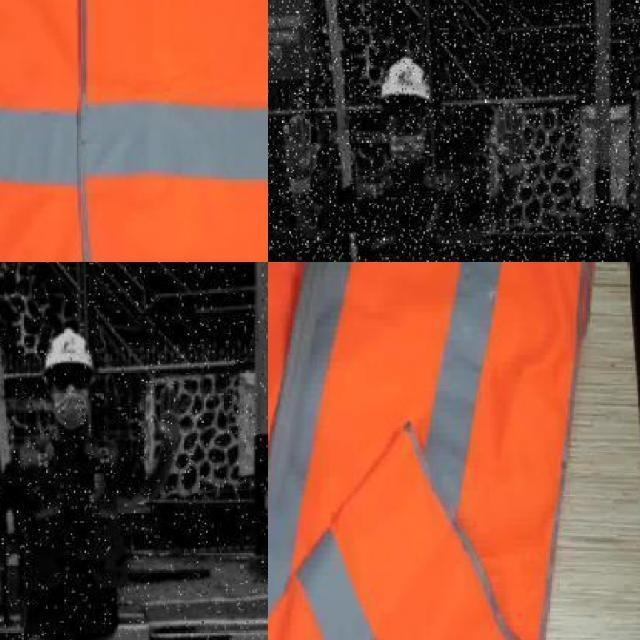apron: (487, 100, 527, 180), (282, 114, 319, 200)
